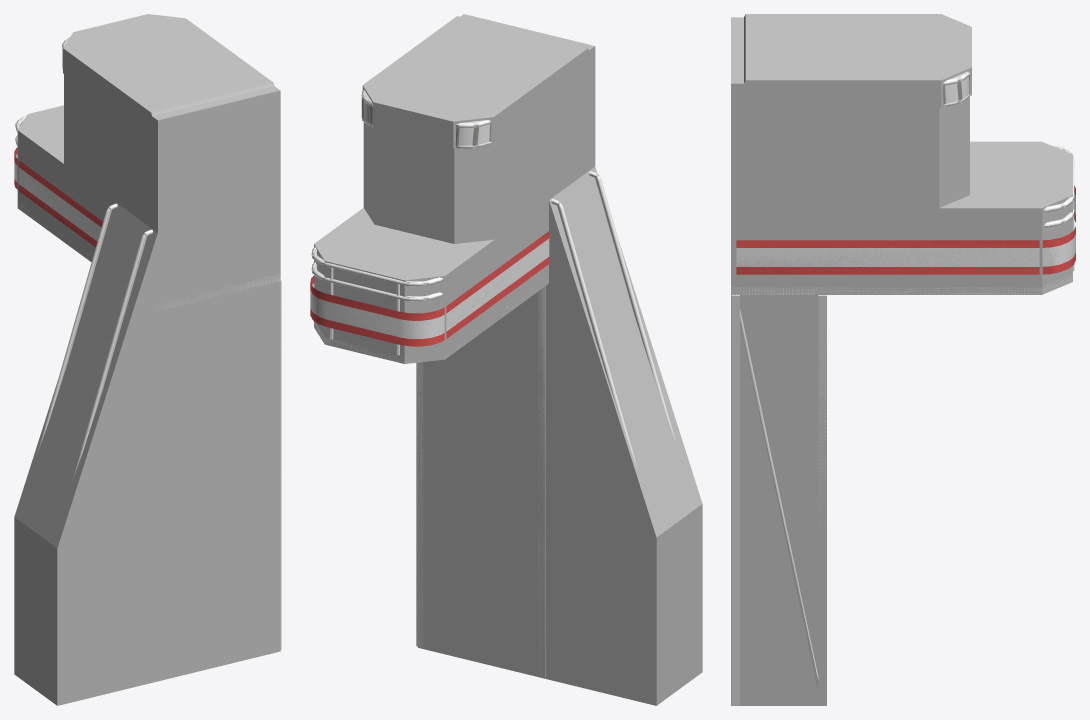
The model's file is marshal_tower.dae.
3 renders of one model, left to right at view 1: azimuth 30°, elevation 25°; view 2: azimuth 150°, elevation 25°; view 3: azimuth 270°, elevation 25°, orthographic. The views are drawn at different scales.
Parts seen in each view (by area): view 1: Colmesh-1, marshal_tower_a030, marshal_tower_a400, marshal_tower_a060; view 2: Colmesh-1, marshal_tower_a030, marshal_tower_a400, marshal_tower_a060; view 3: Colmesh-1, marshal_tower_a030, marshal_tower_a400, marshal_tower_a060.
Part boxes in pixels (left/top/right/bottom): Colmesh-1: left=14, top=52, right=280, bottom=705; marshal_tower_a030: left=17, top=14, right=280, bottom=309; marshal_tower_a400: left=14, top=37, right=281, bottom=649; marshal_tower_a060: left=14, top=39, right=280, bottom=434; Colmesh-1: left=314, top=14, right=702, bottom=705; marshal_tower_a030: left=314, top=16, right=594, bottom=677; marshal_tower_a400: left=310, top=90, right=675, bottom=677; marshal_tower_a060: left=310, top=90, right=668, bottom=674; Colmesh-1: left=731, top=17, right=1072, bottom=705; marshal_tower_a030: left=731, top=14, right=1071, bottom=705; marshal_tower_a400: left=731, top=71, right=1075, bottom=689; marshal_tower_a060: left=731, top=21, right=1075, bottom=705.
Size of the model in its own units: 3.38 by 4.05 by 8.1.
